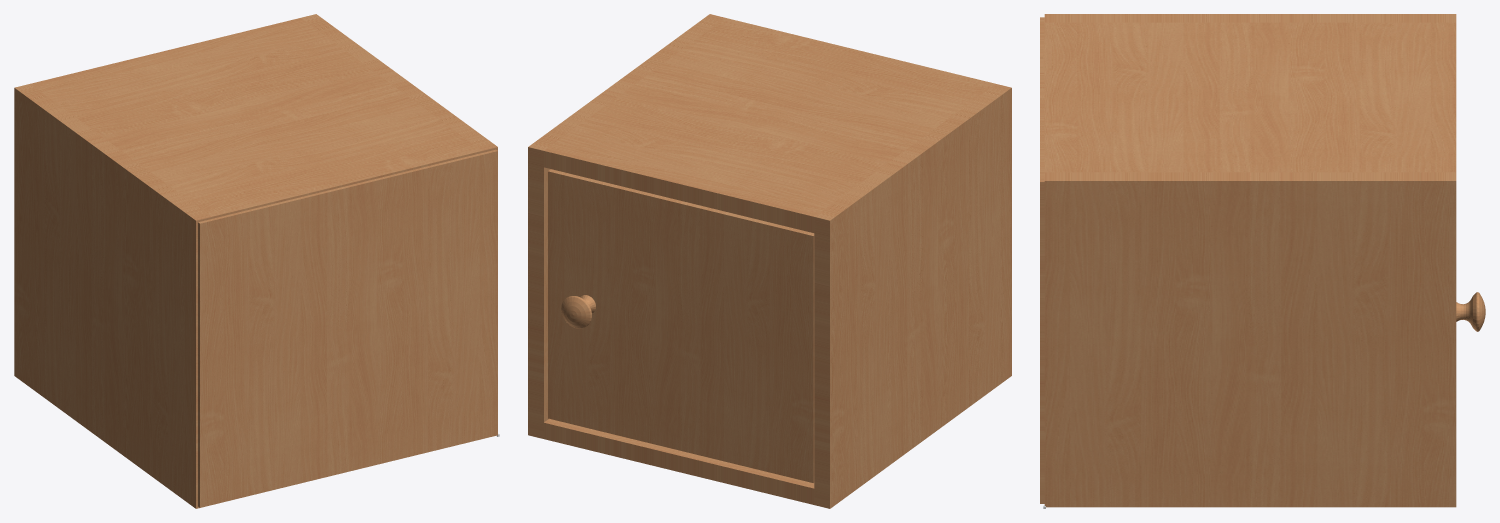
Rendered from antresol_1.glb.
3 views of the same model, side by side, from view 1: azimuth 30°, elevation 25°; view 2: azimuth 150°, elevation 25°; view 3: azimuth 270°, elevation 25° (orthographic). The views are drawn at different scales.
Parts seen in each view (by area): view 1: Shape_IndexedFaceSet.002_NON, Shape_IndexedFaceSet.005, Shape_IndexedFaceSet.003, Shape_IndexedFaceSet.006; view 2: Shape_IndexedFaceSet, Shape_IndexedFaceSet.005, Shape_IndexedFaceSet.003, Shape_IndexedFaceSet.006, Shape_IndexedFaceSet.004, Shape_IndexedFaceSet.001_NON; view 3: Shape_IndexedFaceSet.006, Shape_IndexedFaceSet.003, Shape_IndexedFaceSet.005, Shape_IndexedFaceSet.002_NON, Shape_IndexedFaceSet.001_NON.
Part boxes in pixels (x1=…): Shape_IndexedFaceSet.002_NON: x1=198, y1=149, x2=497, y2=507; Shape_IndexedFaceSet.005: x1=14, y1=84, x2=211, y2=508; Shape_IndexedFaceSet.003: x1=30, y1=18, x2=482, y2=218; Shape_IndexedFaceSet.006: x1=301, y1=14, x2=497, y2=436; Shape_IndexedFaceSet: x1=548, y1=169, x2=814, y2=482; Shape_IndexedFaceSet.005: x1=814, y1=84, x2=1011, y2=508; Shape_IndexedFaceSet.003: x1=544, y1=18, x2=995, y2=232; Shape_IndexedFaceSet.006: x1=528, y1=14, x2=725, y2=438; Shape_IndexedFaceSet.004: x1=544, y1=418, x2=814, y2=504; Shape_IndexedFaceSet.001_NON: x1=561, y1=295, x2=595, y2=328; Shape_IndexedFaceSet.006: x1=1044, y1=172, x2=1456, y2=507; Shape_IndexedFaceSet.003: x1=1044, y1=22, x2=1456, y2=172; Shape_IndexedFaceSet.005: x1=1044, y1=14, x2=1456, y2=22; Shape_IndexedFaceSet.002_NON: x1=1040, y1=17, x2=1044, y2=503; Shape_IndexedFaceSet.001_NON: x1=1456, y1=292, x2=1485, y2=331.
Size of the model in its own units: 308 by 281 by 347.
8 materials, 7 textured.
